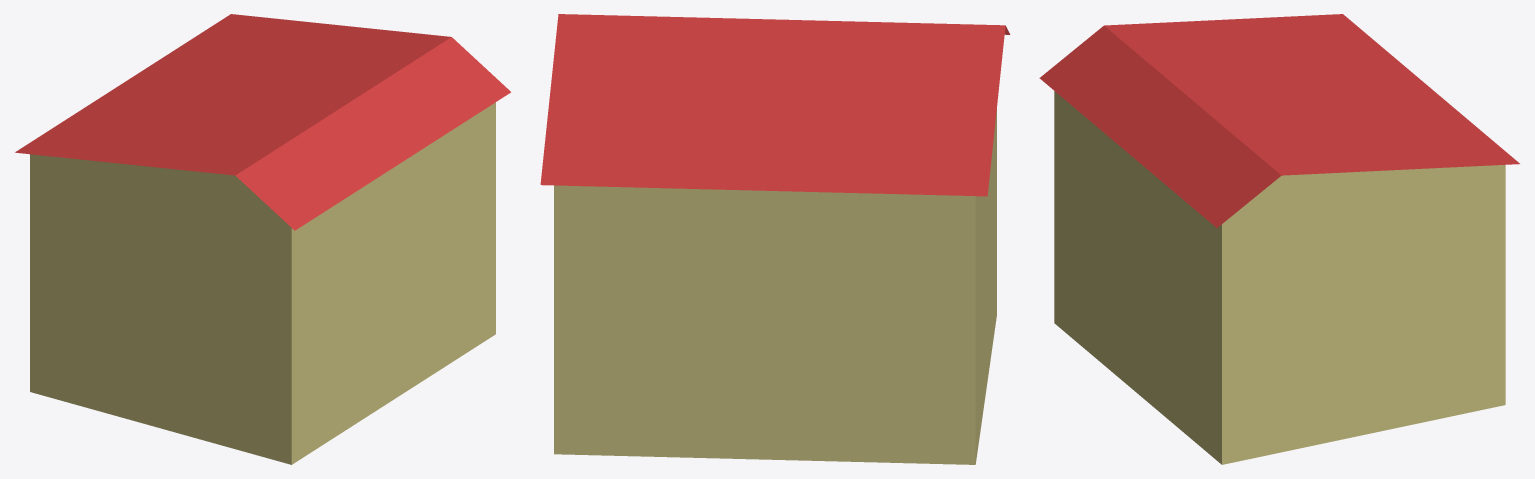
3 views of the same model, side by side, from view 1: azimuth 30°, elevation 25°; view 2: azimuth 150°, elevation 25°; view 3: azimuth 270°, elevation 25° (orthographic). The views are drawn at different scales.
Bounding box in the file's own units: 11.27 × 10.7 × 6.92.
